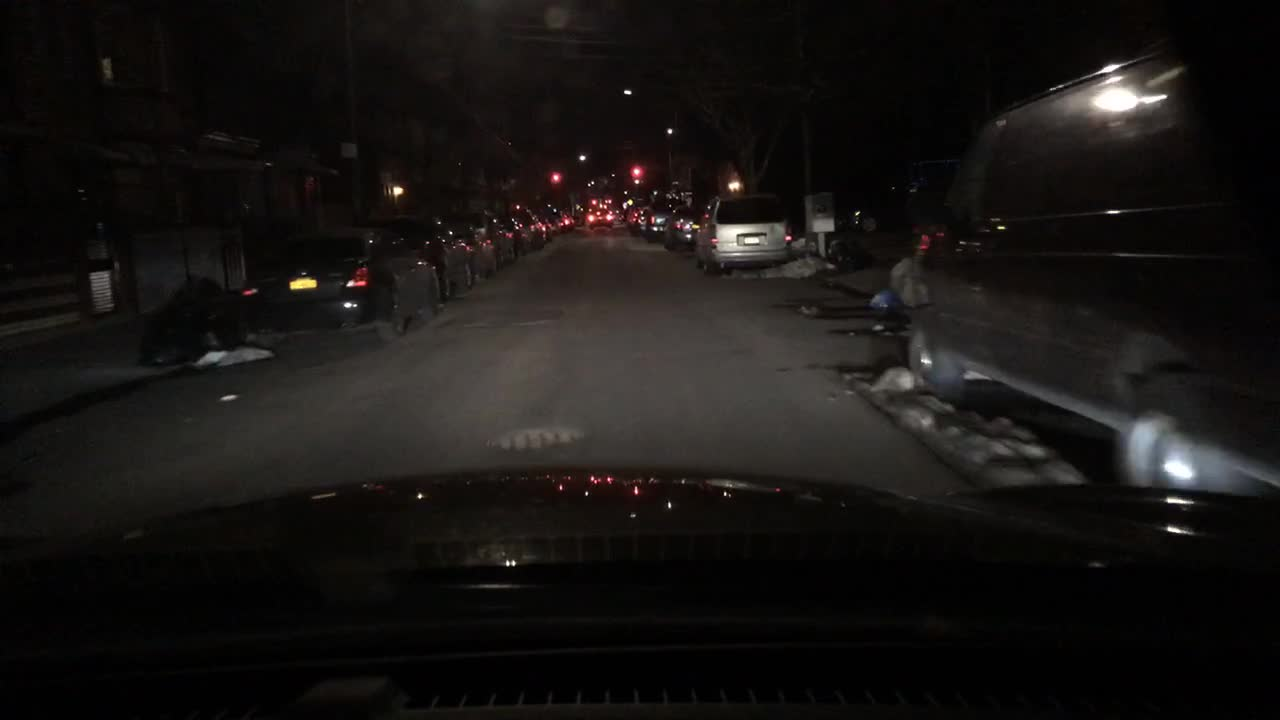car: (866, 24, 1278, 492), (239, 225, 452, 345), (350, 213, 473, 300), (694, 191, 792, 273), (433, 213, 494, 283), (462, 208, 514, 269), (506, 202, 543, 254), (663, 204, 702, 250), (525, 204, 554, 240), (643, 206, 671, 240), (630, 196, 655, 233), (541, 202, 566, 230), (587, 209, 612, 229), (556, 206, 575, 230), (624, 196, 637, 229), (566, 204, 583, 223), (612, 207, 624, 222)
traffic light: (549, 171, 561, 184), (631, 165, 642, 177), (603, 194, 612, 205), (588, 197, 596, 208)
